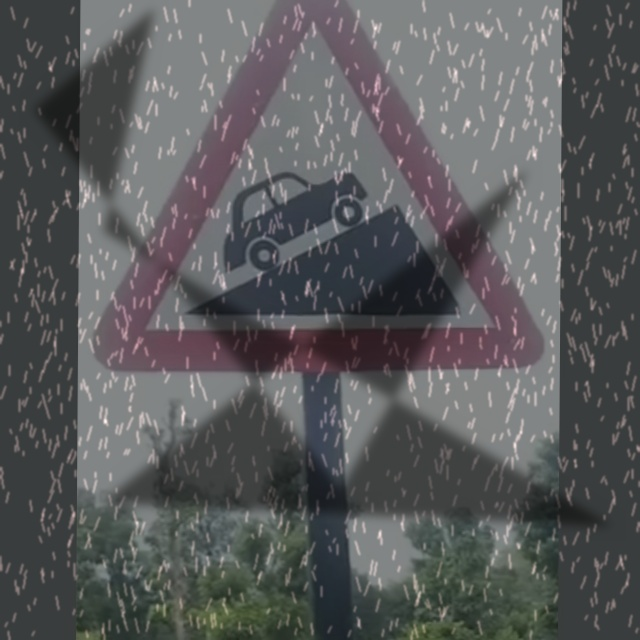Steep_Ascent: (132, 43, 504, 359)
